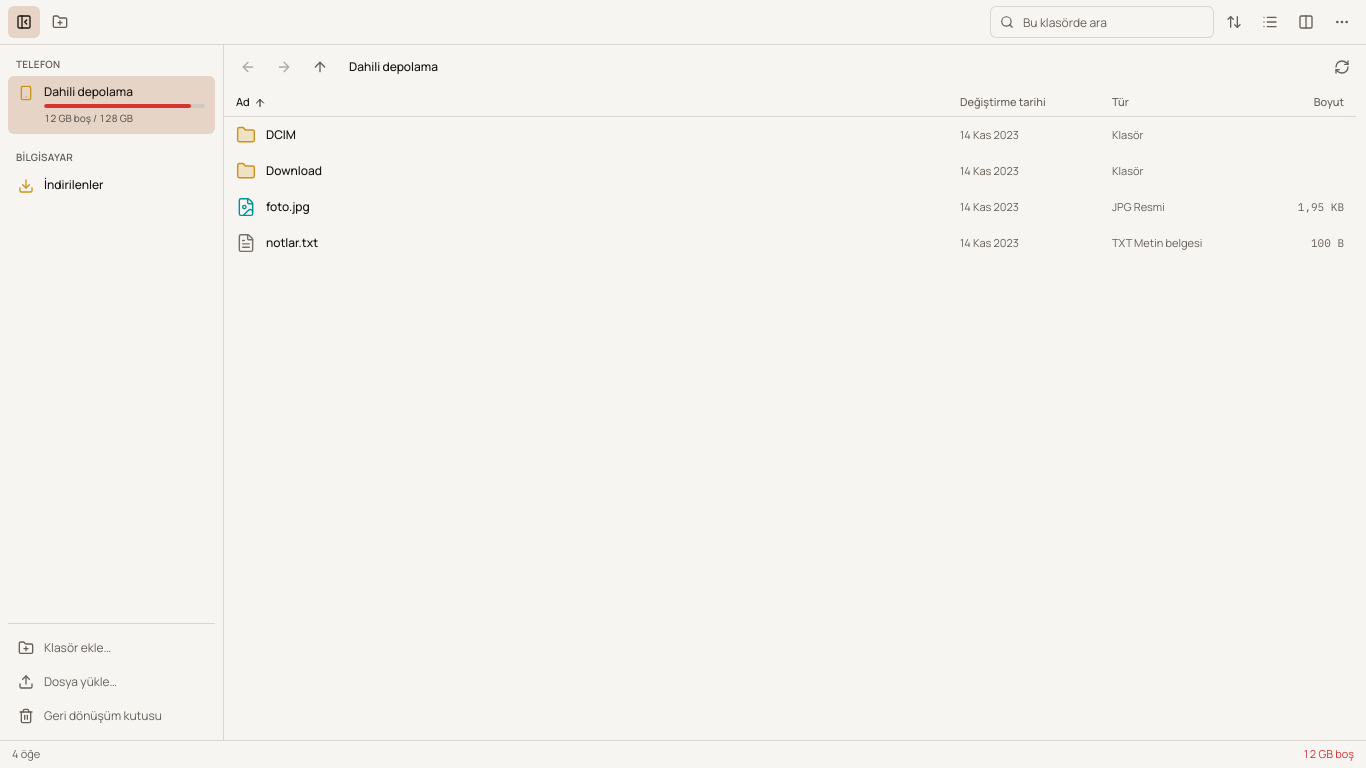
it: uçtan uca akışlar › klasöre çift tıkla → breadcrumb güncellenir → geri → seçili klasör korunur
Double-click the text "DCIM": x=281, y=135 x1=266 y1=127 x2=296 y2=143
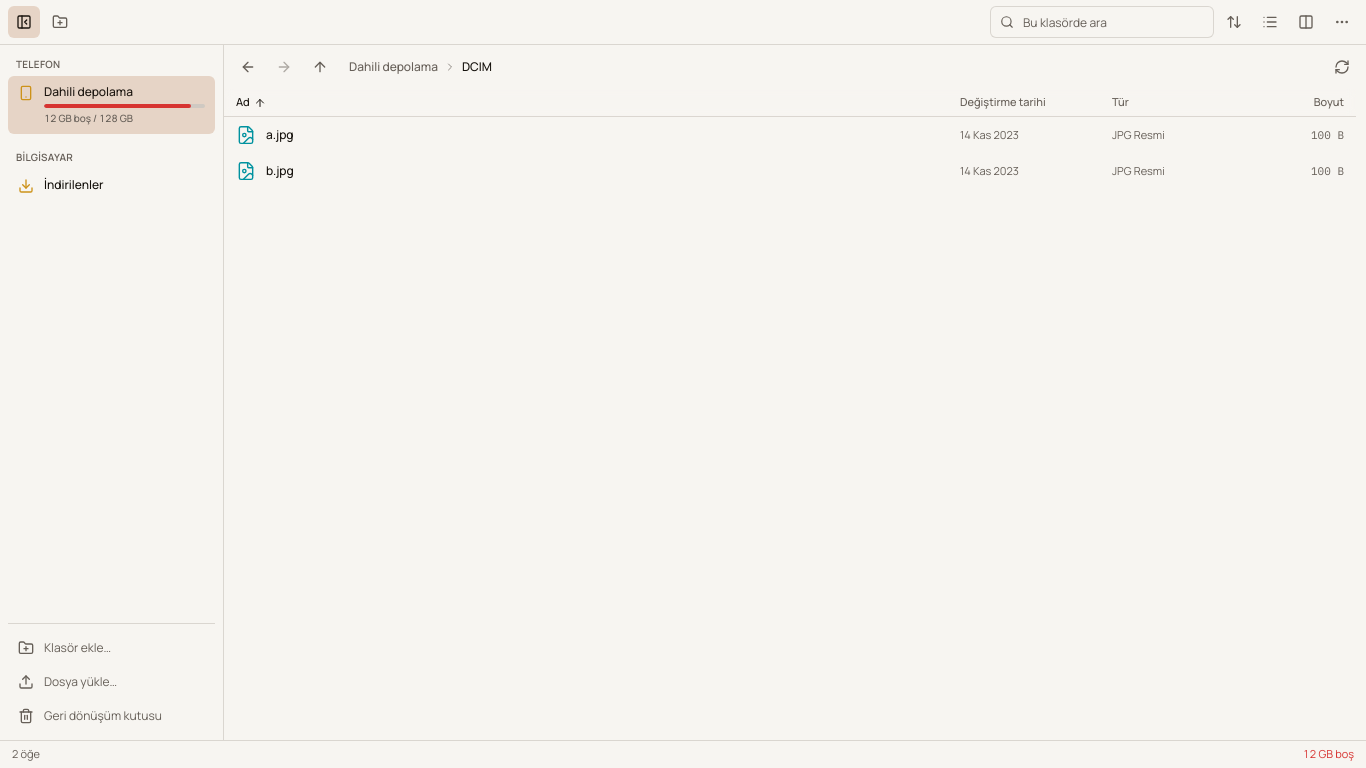
Now the text "a.jpg" is shown, box x1=266 y1=127 x2=294 y2=143
Click the button named "Üst klasör": x=320, y=67 x1=304 y1=51 x2=336 y2=83
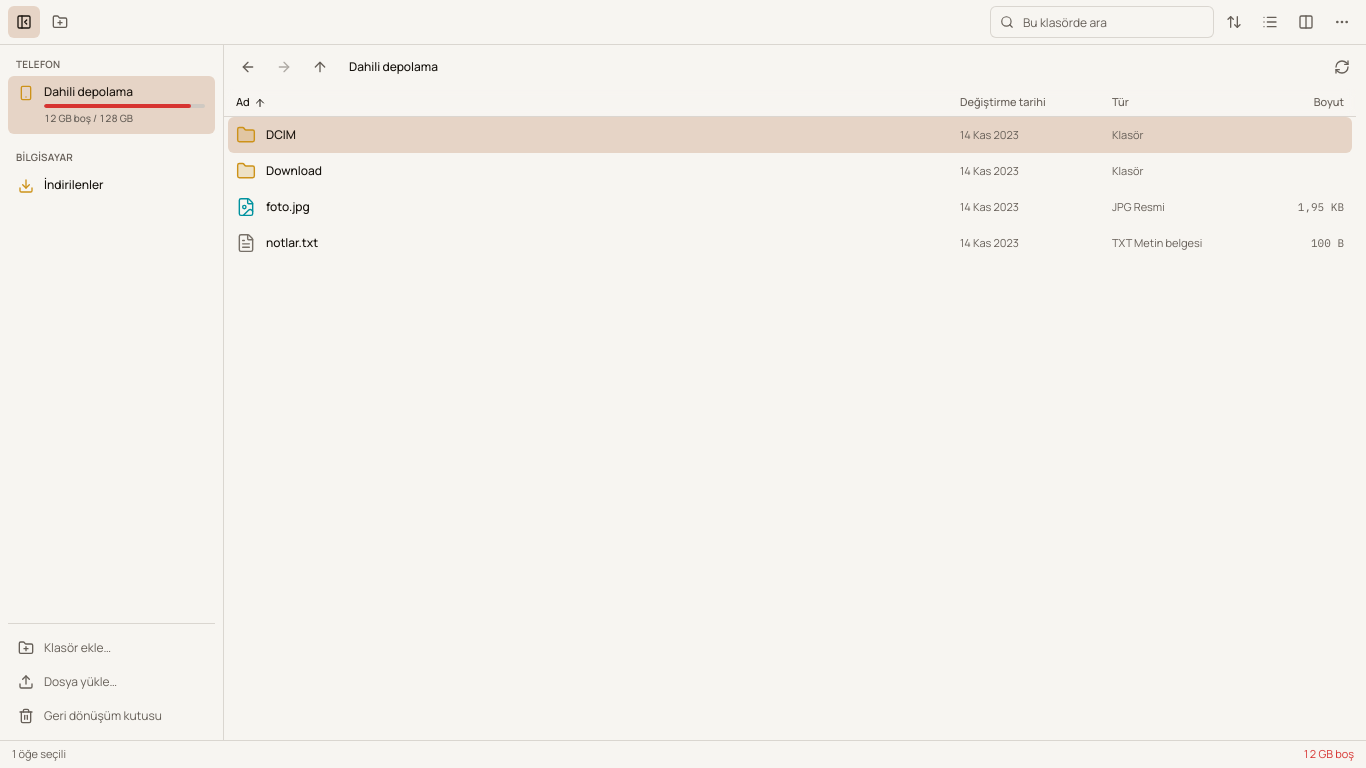
Now the text "notlar.txt" is shown, box x1=266 y1=235 x2=318 y2=251
